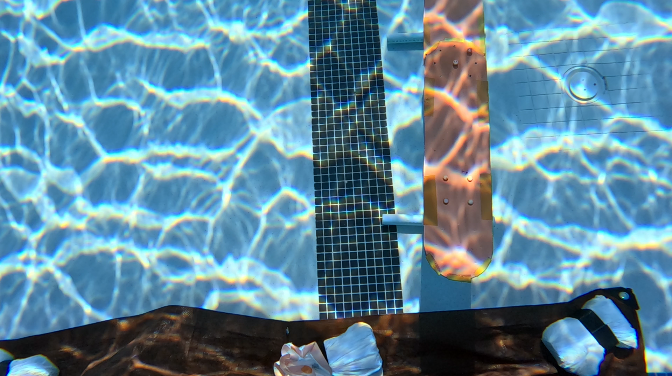pathmarker: (423, 0, 490, 279)
sandbag: (0, 289, 642, 372)
